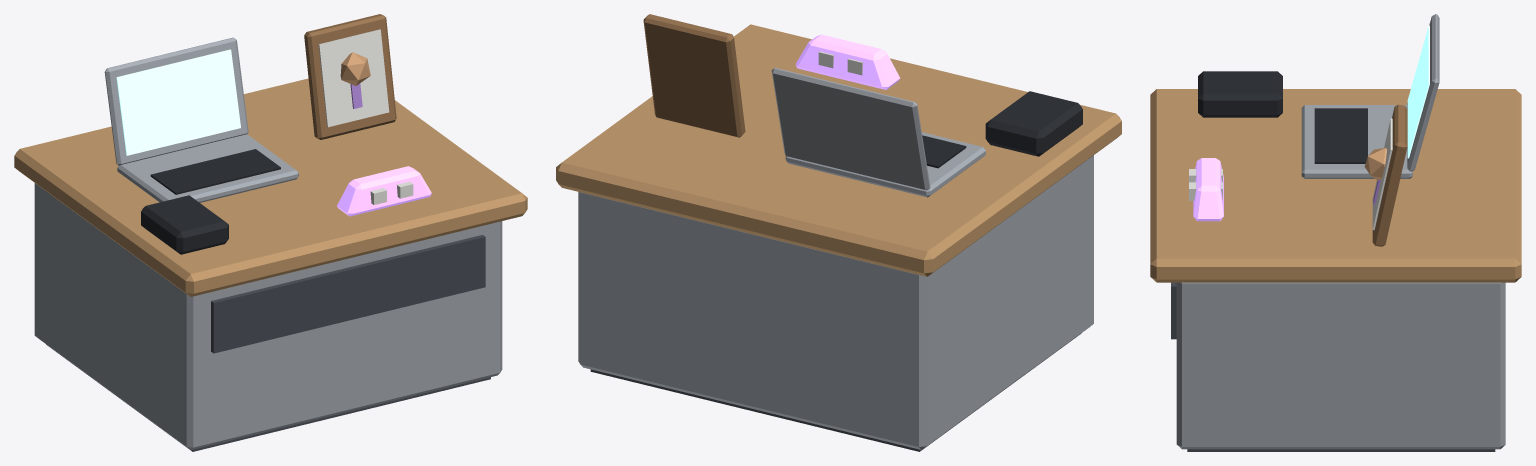
Rendered from autoreply_p2_3.glb.
The picture shows the model from 3 angles, left to right: view 1: azimuth 30°, elevation 25°; view 2: azimuth 150°, elevation 25°; view 3: azimuth 270°, elevation 25°; orthographic projection. The views are drawn at different scales.
Visible parts, largest first — view 1: autoreply_p2_3_mesh_Desk, autoreply_p2_3_mesh; view 2: autoreply_p2_3_mesh_Desk, autoreply_p2_3_mesh; view 3: autoreply_p2_3_mesh_Desk, autoreply_p2_3_mesh.
Part boxes in pixels (bbox=[...]): autoreply_p2_3_mesh_Desk: bbox=[14, 78, 527, 451]; autoreply_p2_3_mesh: bbox=[104, 14, 431, 254]; autoreply_p2_3_mesh_Desk: bbox=[556, 24, 1121, 451]; autoreply_p2_3_mesh: bbox=[643, 14, 1082, 197]; autoreply_p2_3_mesh_Desk: bbox=[1150, 89, 1521, 451]; autoreply_p2_3_mesh: bbox=[1189, 14, 1439, 246].
Size of the model in its own units: 0.78 by 0.6369 by 0.7.
